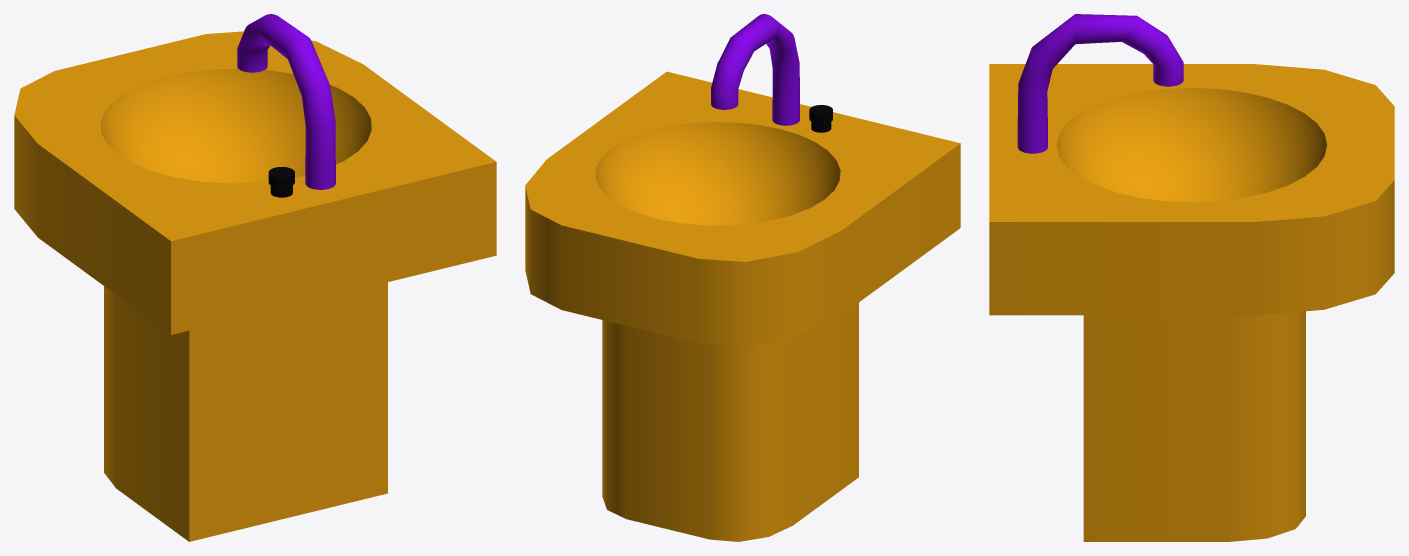
The model's file is lavabo ufak.fbx.
3 renders of one model, left to right at view 1: azimuth 30°, elevation 25°; view 2: azimuth 150°, elevation 25°; view 3: azimuth 270°, elevation 25°, orthographic. The views are drawn at different scales.
Visible parts, largest first — view 1: Cube.021; view 2: Cube.021; view 3: Cube.021.
Boxes of the visible parts, x1,y1,x2,y2 form: Cube.021: (14, 14, 496, 541); Cube.021: (525, 14, 960, 541); Cube.021: (989, 14, 1394, 541).
Bounding box in the file's own units: 18.46 × 26.22 × 20.
